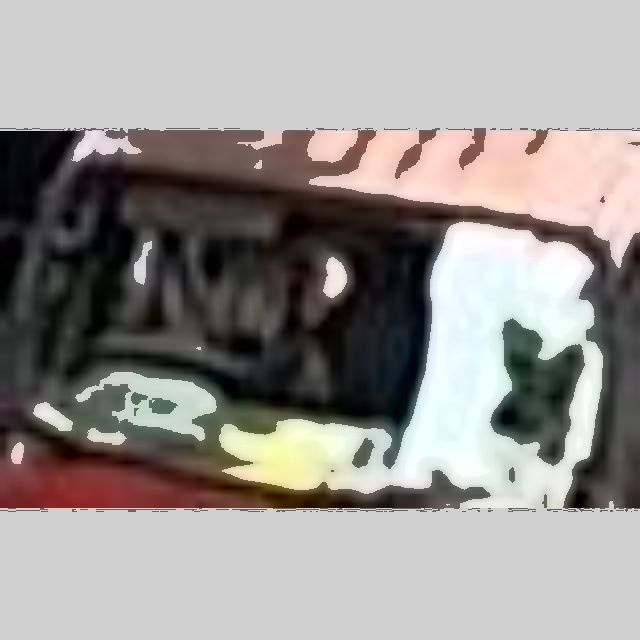pakai: (123, 205, 345, 353)
